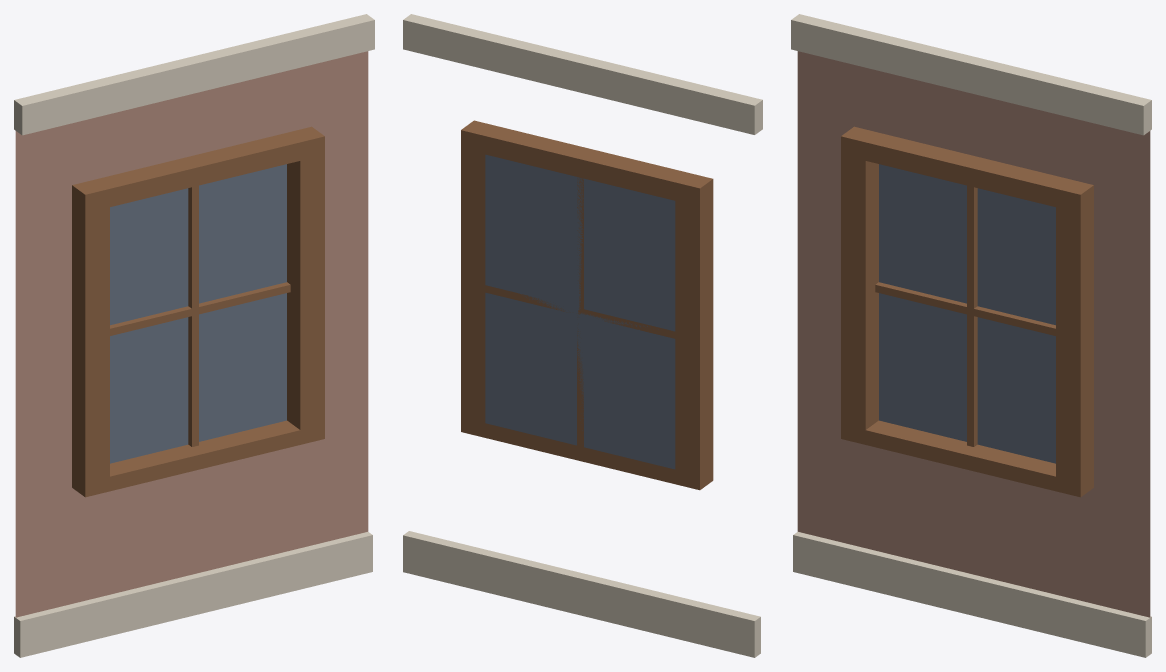
Rendered from Window.glb.
3 renders of one model, left to right at view 1: azimuth 30°, elevation 25°; view 2: azimuth 150°, elevation 25°; view 3: azimuth 330°, elevation 25°, orthographic.
Parts seen in each view (by area): view 1: PBK_Brick_Window_Exterior_Surface.001, PBK_glass.001, PBK_Continuous_Frame_Brick_Window.003, PBK_base_trim.001, PBK_floor_band.048, PBK_Brick_Window_Balanced_Window_Cross.001; view 2: PBK_glass.001, PBK_Continuous_Frame_Brick_Window.003, PBK_base_trim.001, PBK_floor_band.048, PBK_Brick_Window_Balanced_Window_Cross.001; view 3: PBK_Brick_Window_Exterior_Surface.001, PBK_glass.001, PBK_Continuous_Frame_Brick_Window.003, PBK_base_trim.001, PBK_floor_band.048, PBK_Brick_Window_Balanced_Window_Cross.001.
Boxes of the visible parts, x1,y1,x2,y2 form: PBK_Brick_Window_Exterior_Surface.001: [15, 51, 368, 617]; PBK_glass.001: [110, 164, 286, 463]; PBK_Continuous_Frame_Brick_Window.003: [72, 126, 324, 497]; PBK_base_trim.001: [14, 532, 372, 657]; PBK_floor_band.048: [14, 14, 374, 135]; PBK_Brick_Window_Balanced_Window_Cross.001: [110, 185, 290, 446]; PBK_glass.001: [485, 154, 675, 469]; PBK_Continuous_Frame_Brick_Window.003: [461, 120, 713, 490]; PBK_base_trim.001: [403, 531, 760, 657]; PBK_floor_band.048: [403, 14, 762, 134]; PBK_Brick_Window_Balanced_Window_Cross.001: [485, 177, 675, 447]; PBK_Brick_Window_Exterior_Surface.001: [797, 51, 1150, 617]; PBK_glass.001: [879, 164, 1055, 463]; PBK_Continuous_Frame_Brick_Window.003: [841, 126, 1093, 497]; PBK_base_trim.001: [793, 532, 1151, 657]; PBK_floor_band.048: [791, 14, 1151, 135]; PBK_Brick_Window_Balanced_Window_Cross.001: [875, 185, 1055, 446].
Size of the model in its own units: 2 by 3 by 0.145.
